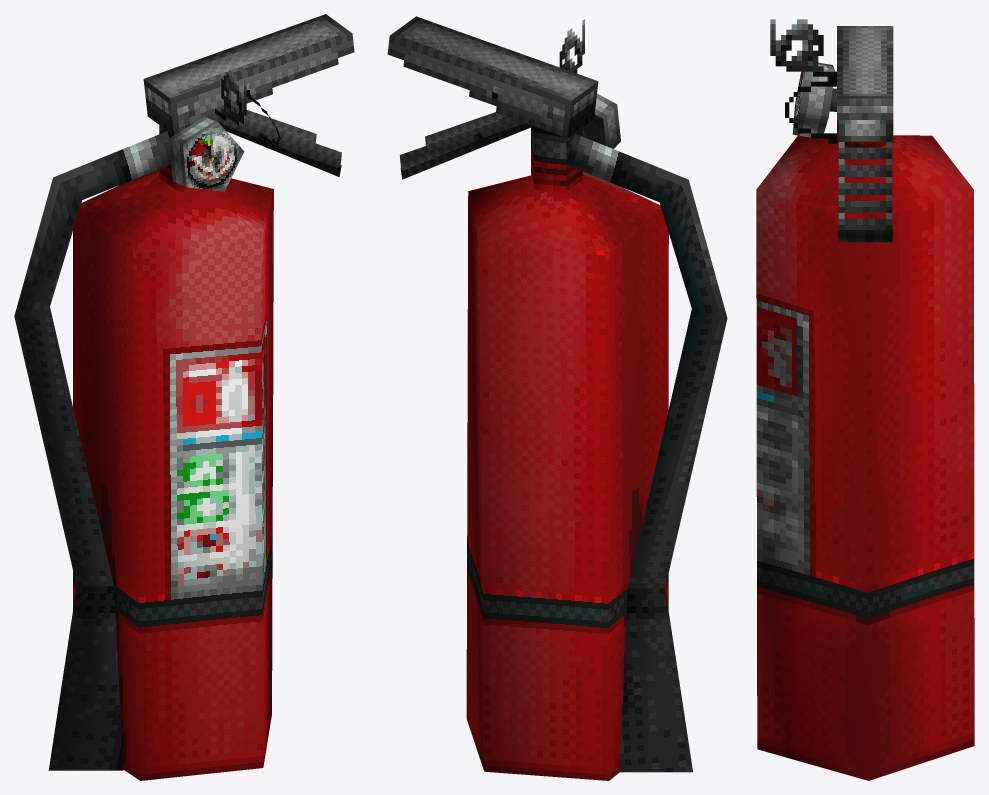
Rendered from extinguisher.glb.
The picture shows the model from 3 angles, left to right: view 1: azimuth 30°, elevation 25°; view 2: azimuth 150°, elevation 25°; view 3: azimuth 270°, elevation 25°; orthographic projection. The views are drawn at different scales.
Parts seen in each view (by area): view 1: Object_2, Object_3; view 2: Object_2, Object_3; view 3: Object_2, Object_3.
Part boxes in pixels (left/top/right/bottom): Object_2: left=14, top=79, right=273, bottom=780; Object_3: left=144, top=14, right=354, bottom=176; Object_2: left=466, top=81, right=727, bottom=780; Object_3: left=387, top=16, right=597, bottom=179; Object_2: left=756, top=62, right=974, bottom=780; Object_3: left=770, top=19, right=893, bottom=242.
Size of the model in its own units: 0.4093 by 0.8187 by 0.222.
Materials: 2 (2 with a texture image).
